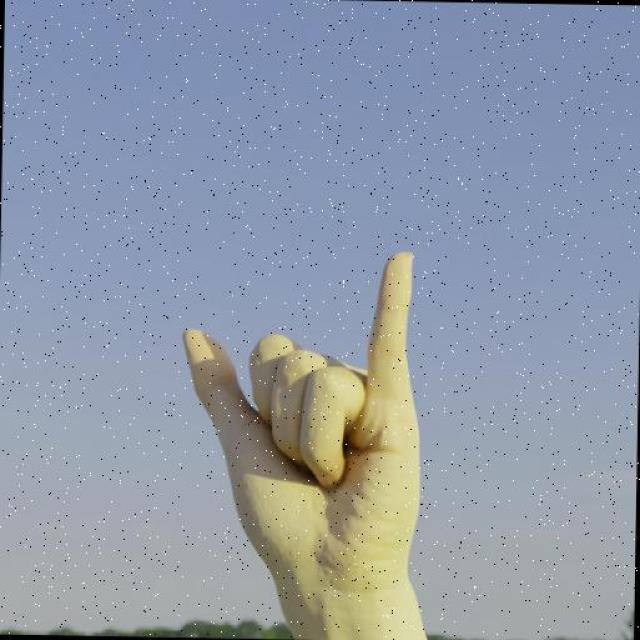Y: (162, 226, 472, 626)
